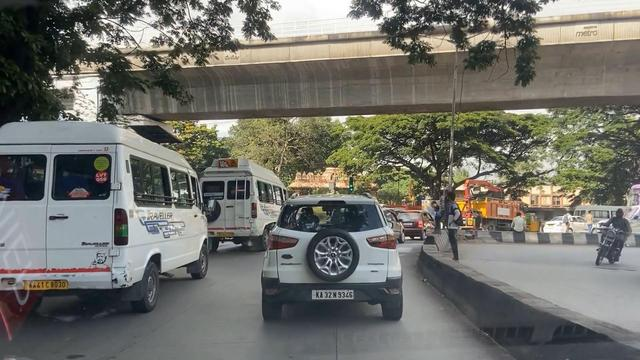HMV: (8, 114, 206, 313), (210, 168, 272, 247)
LMV: (275, 199, 404, 327)
